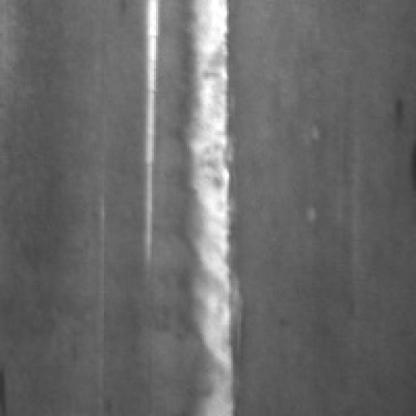scratches: (166, 0, 238, 412), (137, 0, 160, 270)
